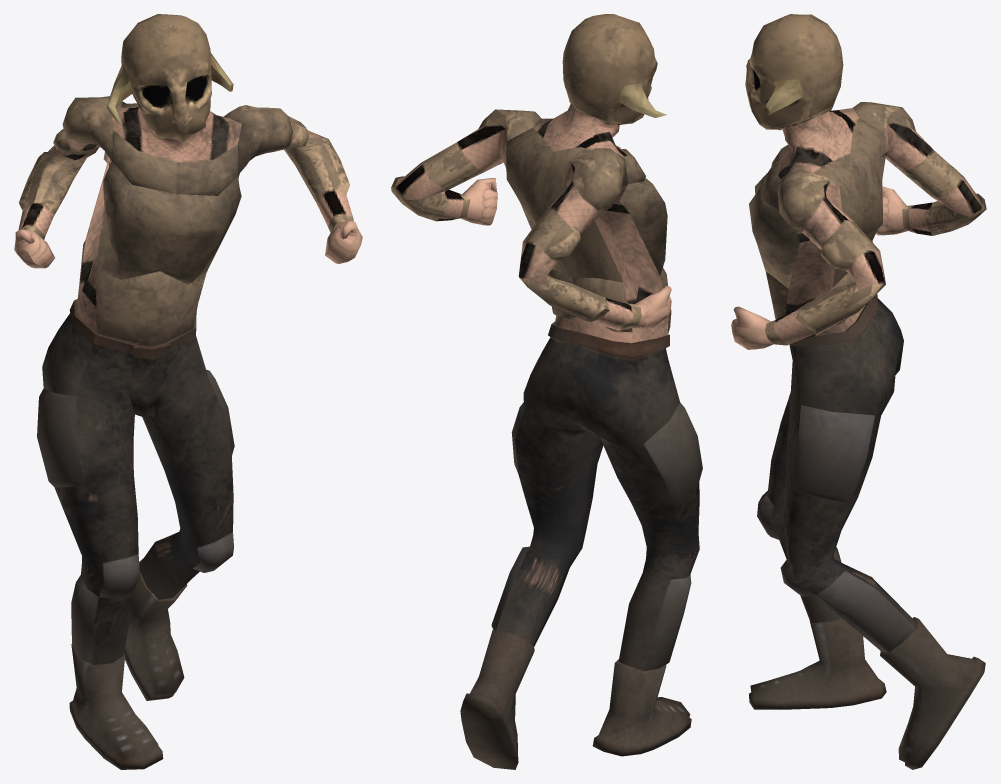
The model's file is Anim_ataque_d2_npc1.0038.obj.
3 renders of one model, left to right at view 1: azimuth 30°, elevation 25°; view 2: azimuth 150°, elevation 25°; view 3: azimuth 270°, elevation 25°, orthographic. The views are drawn at different scales.
Visible parts, largest first — view 1: NPC2; view 2: NPC2; view 3: NPC2.
Boxes of the visible parts, x1,y1,x2,y2 form: NPC2: (14,14,362,769); NPC2: (391,14,702,769); NPC2: (731,14,986,769).
Bounding box in the file's own units: 3.96 × 9.46 × 3.03.
